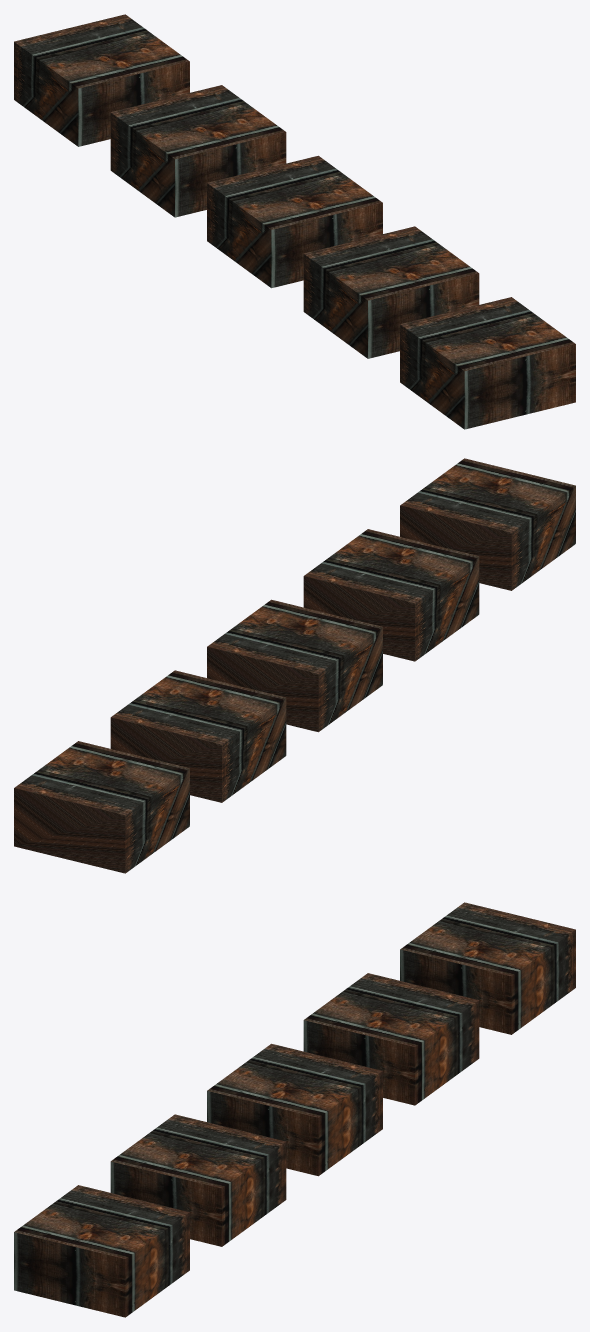
File: bridge.fbx
3 views of the same model, one above another, from view 1: azimuth 30°, elevation 25°; view 2: azimuth 150°, elevation 25°; view 3: azimuth 330°, elevation 25° (orthographic).
Visible parts, largest first — view 1: Bridge; view 2: Bridge; view 3: Bridge.
Part boxes in pixels (box(x1,y1,x2,y2)): Bridge: box(14, 14, 575, 429); Bridge: box(14, 458, 575, 873); Bridge: box(14, 902, 575, 1317).
Bounding box in the file's own units: 200 × 100 × 1400.
Materials: 1 (1 with a texture image).
